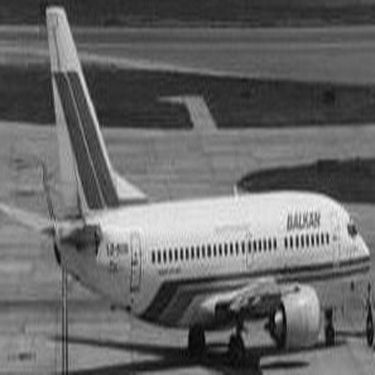airplane: (6, 1, 370, 373)
